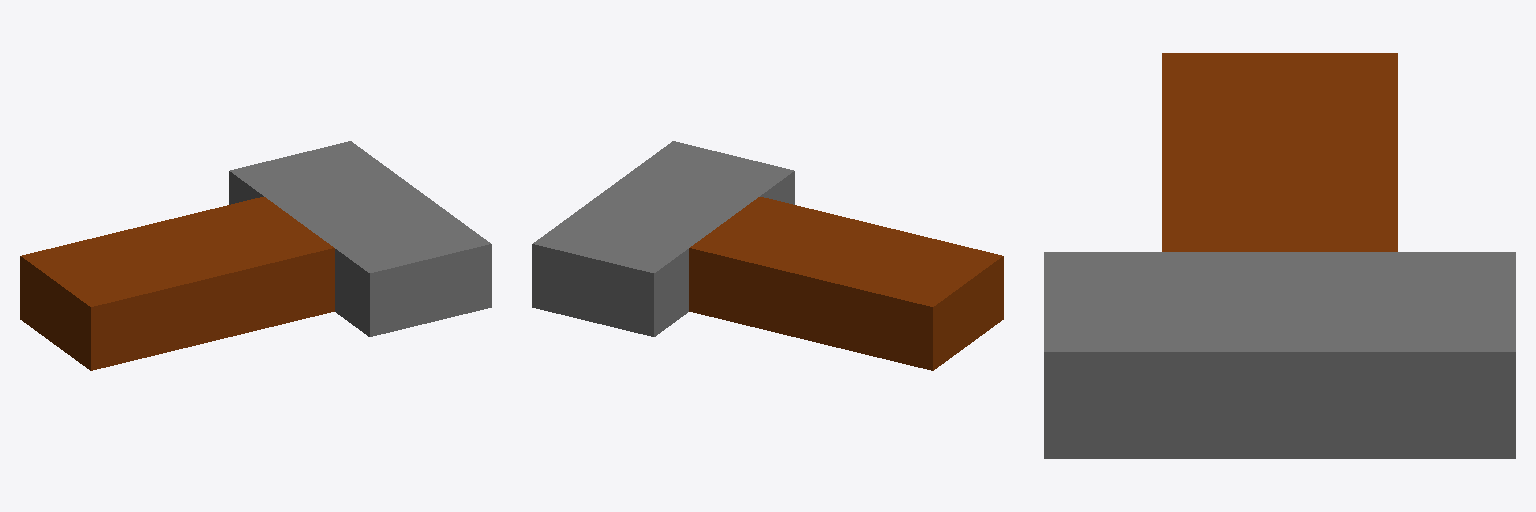
robot.urdf — cuboidal_hammer:
<?xml version="1.0"?>
<robot name="cuboidal_hammer">

  <!-- Handle -->
  <link name="handle">
    <visual>
      <origin xyz="0 0 0" rpy="0 0 0"/>
      <geometry>
        <box size="0.1 0.05 0.025"/>
      </geometry>
      <material name="brown">
        <color rgba="0.55 0.27 0.07 1.0"/>
      </material>
    </visual>
    <collision>
      <origin xyz="0 0 0" rpy="0 0 0"/>
      <geometry>
        <box size="0.1 0.05 0.025"/>
      </geometry>
    </collision>
    <inertial>
      <mass value="0.1"/>
      <inertia ixx="0.0001" iyy="0.0001" izz="0.0001" ixy="0" ixz="0" iyz="0"/>
    </inertial>
  </link>

  <!-- Head -->
  <link name="head">
    <visual>
      <origin xyz="0 0 0" rpy="0 0 0"/>
      <geometry>
        <box size="0.05 0.1 0.025"/>
      </geometry>
      <material name="gray">
        <color rgba="0.5 0.5 0.5 1.0"/>
      </material>
    </visual>
    <collision>
      <origin xyz="0 0 0" rpy="0 0 0"/>
      <geometry>
        <box size="0.05 0.1 0.025"/>
      </geometry>
    </collision>
    <inertial>
      <mass value="0.2"/>
      <inertia ixx="0.0002" iyy="0.0002" izz="0.0002" ixy="0" ixz="0" iyz="0"/>
    </inertial>
  </link>

  <!-- Joint connecting handle and head -->
  <joint name="handle_to_head" type="fixed">
    <parent link="handle"/>
    <child link="head"/>
    <origin xyz="0.07500000000000001 0 0" rpy="0 0 0"/>
  </joint>

</robot>

--- Facts derived from the render (not from the file) ---
3 views of the same robot in one strip: view 1: azimuth 30°, elevation 25°; view 2: azimuth 150°, elevation 25°; view 3: azimuth 270°, elevation 25° (orthographic).
Model cuboidal_hammer with 2 links and 1 joints (1 fixed), rooted at handle, posed all joints at 0.
Visible links, largest first — view 1: handle, head; view 2: handle, head; view 3: head, handle.
Boxes of the visible links, bbox=[...] form: handle: bbox=[20, 197, 334, 370]; head: bbox=[229, 141, 491, 336]; handle: bbox=[689, 197, 1003, 370]; head: bbox=[532, 141, 794, 336]; head: bbox=[1044, 252, 1515, 458]; handle: bbox=[1162, 53, 1397, 251].
Size in the robot's own frame: 0.15 by 0.1 by 0.025 metres.
Geometry: primitives only (box / cylinder / sphere), no mesh files.
